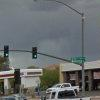Traffic light: (4, 40, 41, 65)
